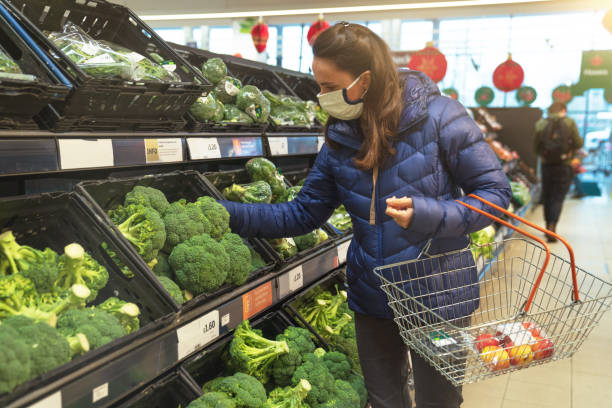with mask: (308, 39, 389, 128)
